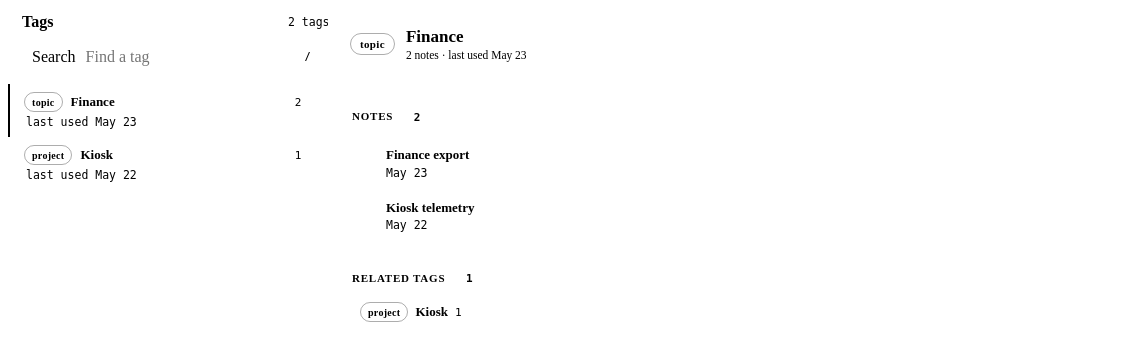
TagsView › updates the detail pane when a tag is selected
This screenshot has width=1129, height=339.
Click the button with aria-label "Select Kiosk" at [48, 155], box [8, 137, 328, 190]
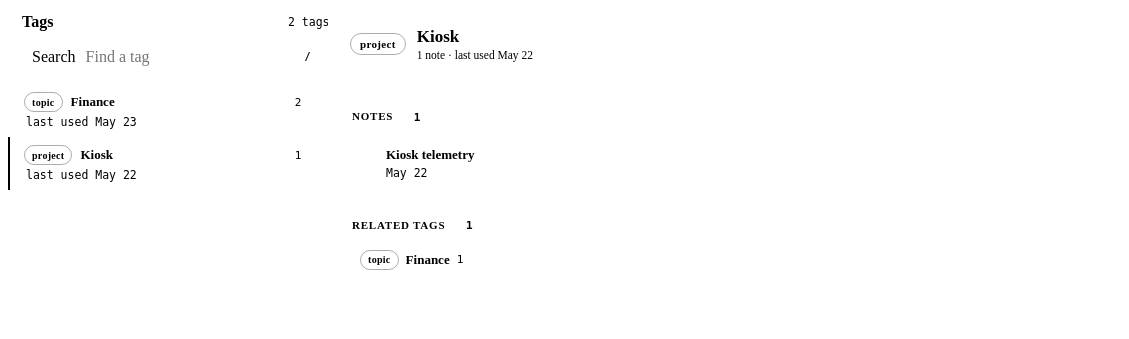
Check: the heading "Kiosk" is shown, box [417, 27, 459, 46]
Check: the button with aria-label "Open note: Kiosk telemetry" is shown, box [352, 137, 1112, 188]
